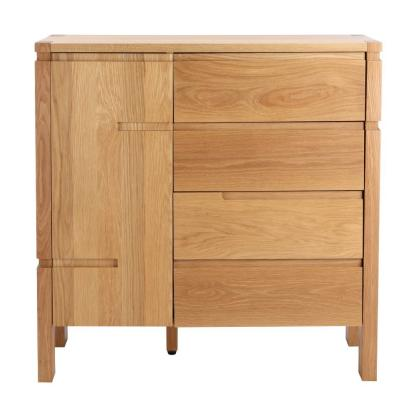Sideboard: (31, 32, 386, 390)
